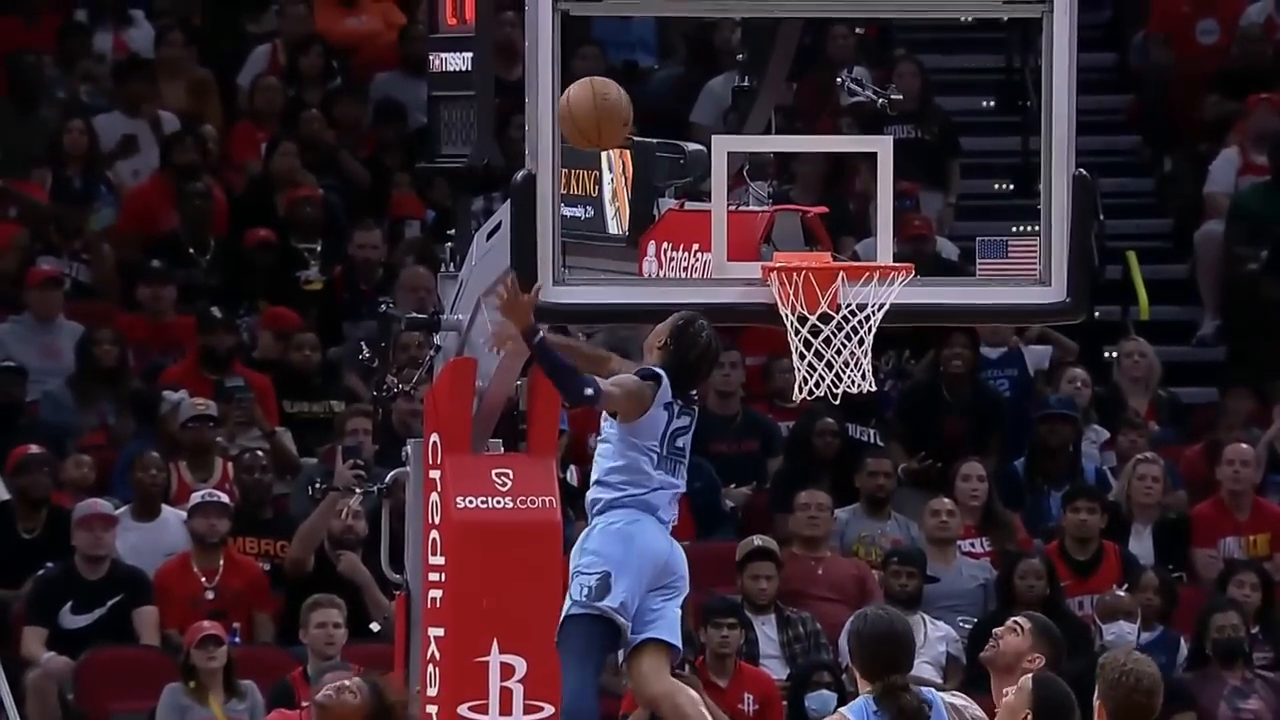ball: (552, 68, 641, 156)
net: (757, 257, 918, 408)
